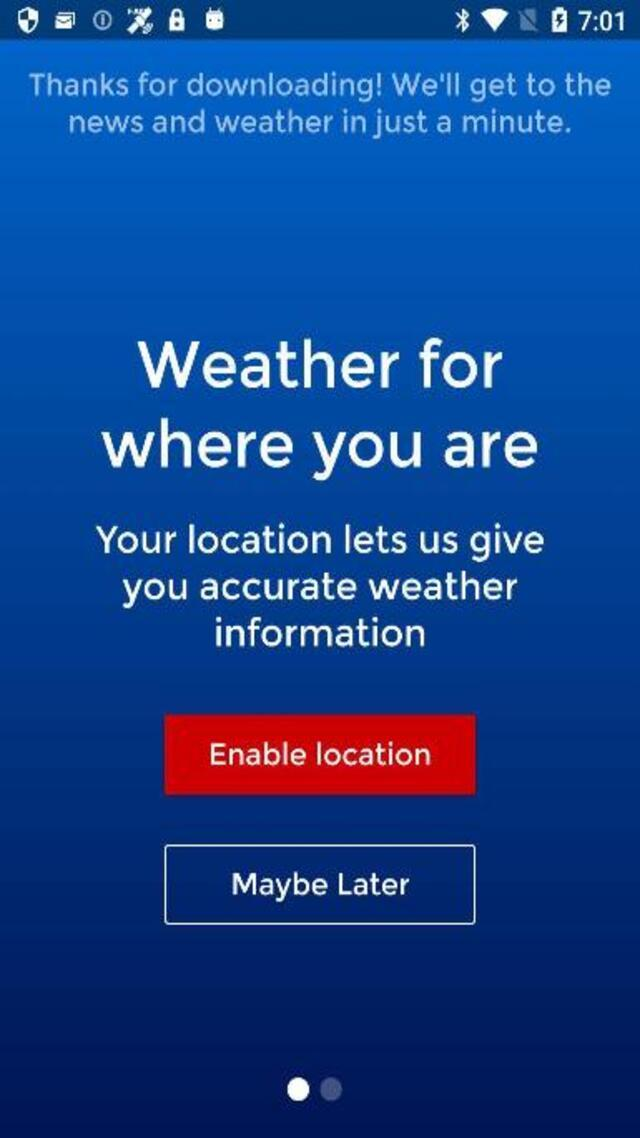Text: (100, 418, 538, 482), (84, 520, 554, 566), (22, 69, 616, 102), (136, 336, 502, 388), (59, 106, 579, 140), (112, 570, 524, 608), (206, 616, 429, 656), (206, 740, 433, 770), (227, 870, 413, 904)
TextButton: (162, 844, 476, 924), (163, 714, 474, 794)
